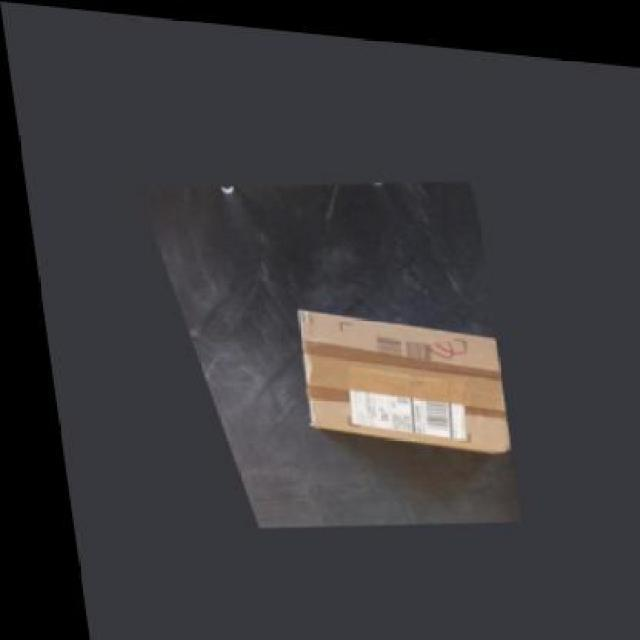box: (283, 302, 497, 444)
